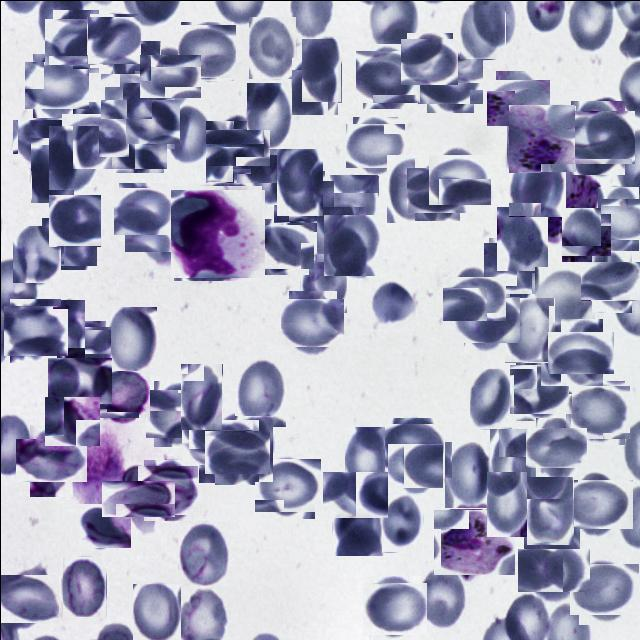leukocyte: (171, 186, 263, 278)
red blood cell: (565, 104, 629, 168), (566, 473, 627, 534), (574, 558, 634, 618), (257, 455, 317, 515), (235, 355, 285, 426), (358, 46, 417, 105), (568, 382, 626, 442), (534, 266, 594, 324), (130, 200, 189, 258), (105, 306, 156, 373), (323, 214, 379, 275), (489, 428, 536, 500), (365, 578, 423, 636), (6, 301, 64, 359), (524, 541, 582, 599), (444, 441, 494, 508), (526, 476, 574, 545), (149, 384, 206, 442), (457, 290, 514, 348), (22, 431, 80, 488), (508, 157, 565, 215), (417, 564, 465, 632), (177, 521, 228, 585), (386, 154, 434, 222), (496, 206, 547, 270), (504, 297, 554, 362), (48, 125, 98, 189), (421, 51, 478, 107), (431, 150, 486, 208), (178, 22, 234, 78), (486, 240, 542, 296), (28, 57, 84, 113), (284, 294, 340, 350), (66, 106, 122, 162), (110, 470, 166, 526), (331, 495, 383, 555), (276, 148, 322, 215), (512, 361, 568, 416), (490, 74, 546, 129), (0, 570, 55, 626), (140, 462, 195, 517), (327, 467, 382, 522), (248, 16, 296, 79), (409, 162, 464, 216), (15, 116, 70, 170), (48, 13, 102, 68), (52, 352, 106, 407), (209, 424, 263, 479), (540, 324, 588, 385), (54, 323, 108, 377), (232, 124, 286, 178), (447, 271, 501, 325), (554, 324, 608, 378), (246, 82, 290, 148), (30, 136, 74, 202), (329, 174, 378, 233), (386, 420, 440, 473), (229, 415, 272, 481), (344, 426, 389, 489), (180, 363, 222, 430), (525, 524, 578, 577), (115, 185, 168, 238), (143, 49, 196, 102), (93, 368, 147, 420), (316, 206, 366, 262), (112, 40, 160, 98), (348, 120, 401, 172), (190, 421, 242, 474), (45, 394, 97, 447), (12, 225, 60, 282), (132, 583, 180, 640), (40, 299, 84, 361), (291, 57, 338, 115), (112, 118, 164, 170), (43, 215, 95, 267), (403, 34, 455, 86), (48, 194, 100, 246), (468, 368, 512, 429), (62, 556, 106, 617), (300, 254, 346, 312), (277, 175, 329, 226), (163, 105, 210, 161), (530, 422, 581, 473), (486, 471, 526, 536), (301, 38, 341, 102), (88, 14, 138, 65), (585, 256, 636, 306), (592, 192, 640, 245), (459, 4, 505, 59), (381, 492, 423, 552), (261, 221, 311, 271), (390, 440, 440, 490), (212, 122, 262, 172), (371, 277, 418, 330), (127, 96, 176, 146), (101, 70, 150, 120), (80, 500, 128, 549), (558, 210, 606, 258), (250, 154, 292, 204), (205, 120, 233, 182)
trophozoite: (436, 505, 510, 578), (540, 163, 600, 245), (506, 104, 574, 172)
